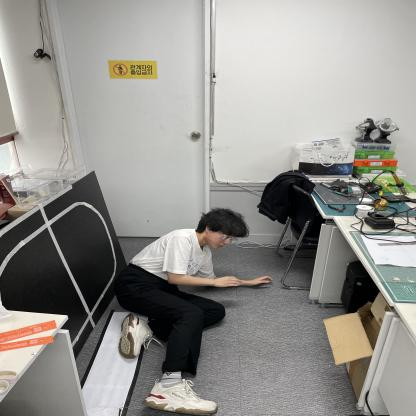fall: (127, 208, 276, 414)
